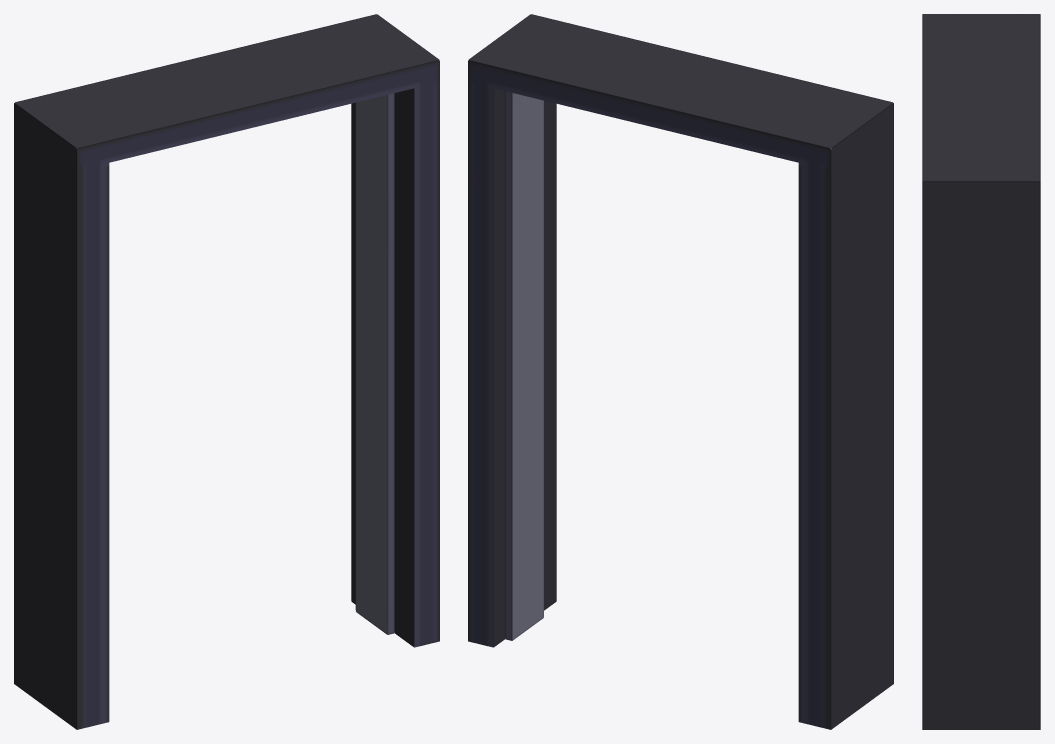
File: TechDoorFrame.fbx
3 renders of one model, left to right at view 1: azimuth 30°, elevation 25°; view 2: azimuth 150°, elevation 25°; view 3: azimuth 270°, elevation 25°, orthographic. The views are drawn at different scales.
Visible parts, largest first — view 1: Cube.001; view 2: Cube.001; view 3: Cube.001.
Boxes of the visible parts, x1=… form: Cube.001: x1=14, y1=14, x2=439, y2=729; Cube.001: x1=468, y1=14, x2=893, y2=729; Cube.001: x1=922, y1=14, x2=1040, y2=729.
Size of the model in its own units: 667 by 1021 by 200.
